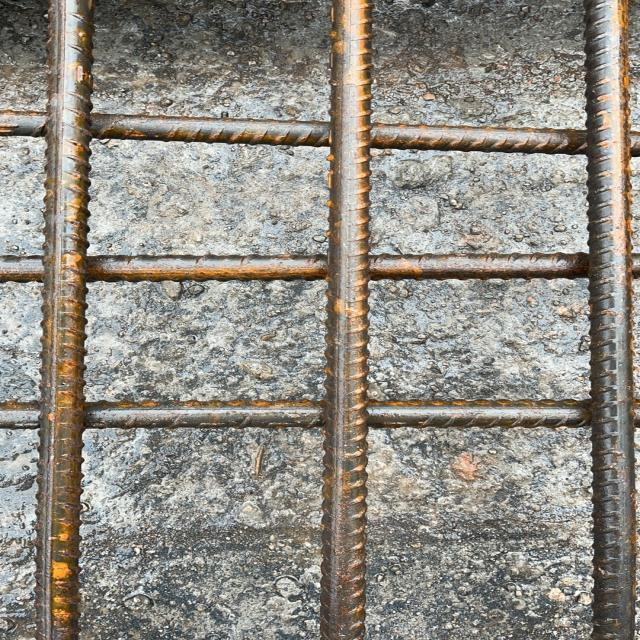ribbed bar: (34, 0, 96, 639), (318, 0, 373, 639), (584, 0, 635, 639), (0, 110, 639, 156), (0, 397, 639, 431), (0, 252, 639, 284)
